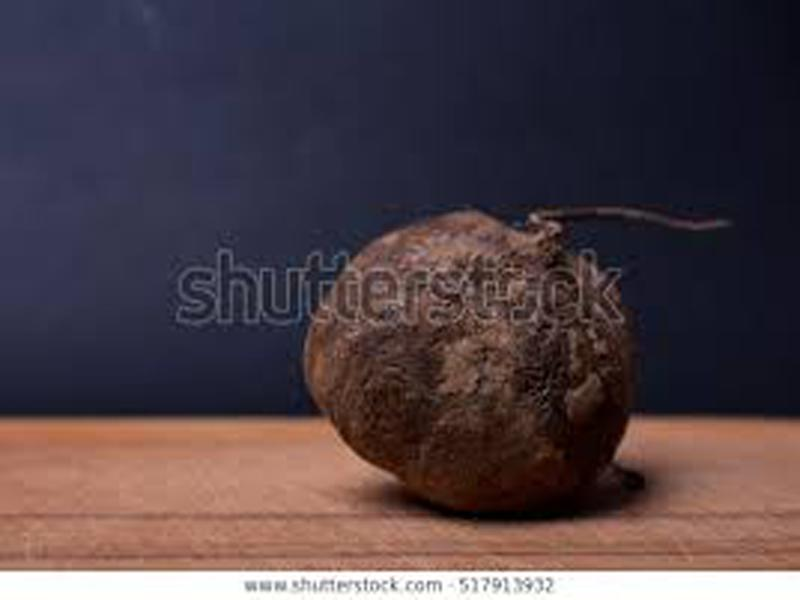Beet: (304, 204, 737, 511)
